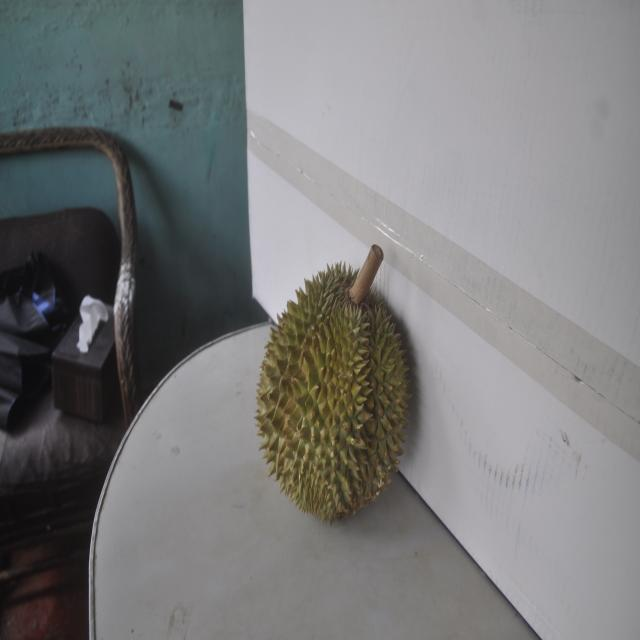mature: (255, 251, 412, 526)
